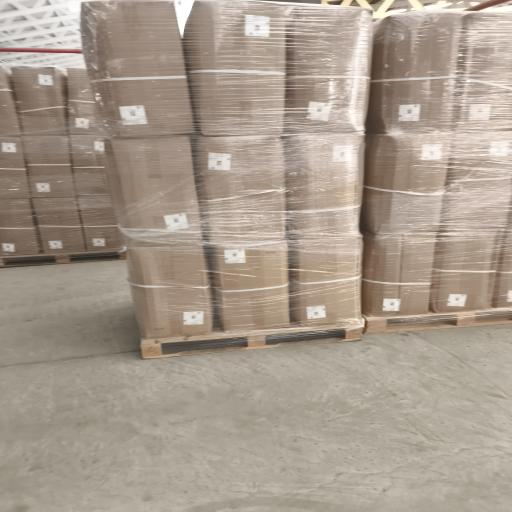pallet: (141, 327, 362, 358), (364, 309, 511, 333), (0, 249, 126, 267)
